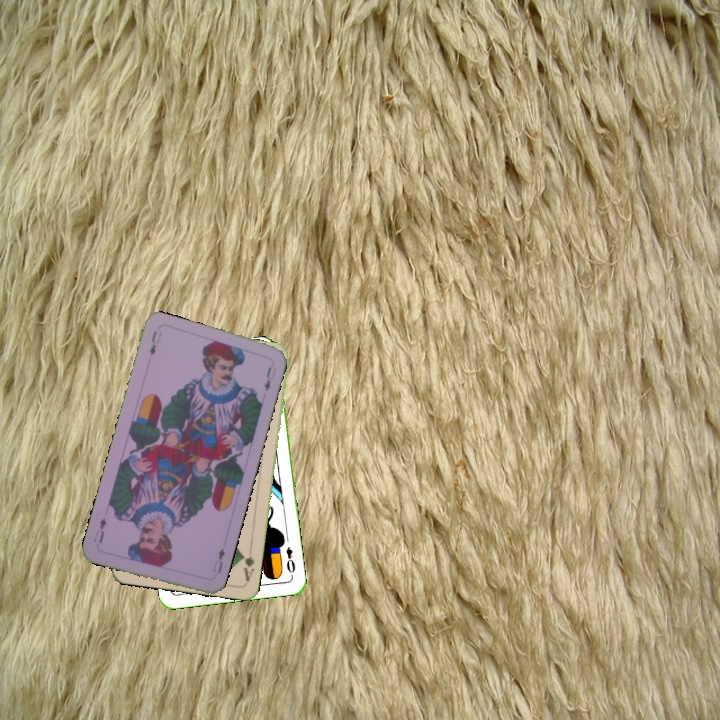EO: (282, 543, 298, 579)
EU: (145, 327, 164, 358), (209, 544, 227, 576)
GA: (238, 544, 257, 584)
